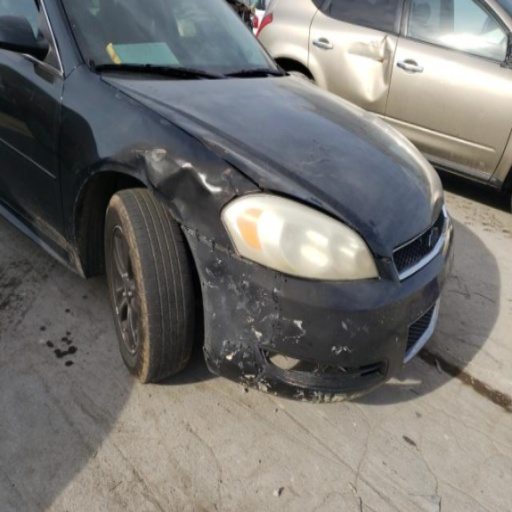dent: (86, 141, 241, 236), (28, 218, 85, 277), (431, 198, 444, 224)
rust: (199, 135, 333, 211), (218, 164, 260, 199), (320, 278, 378, 282)
